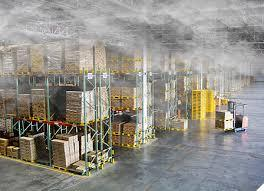smoke: (0, 0, 264, 140)
